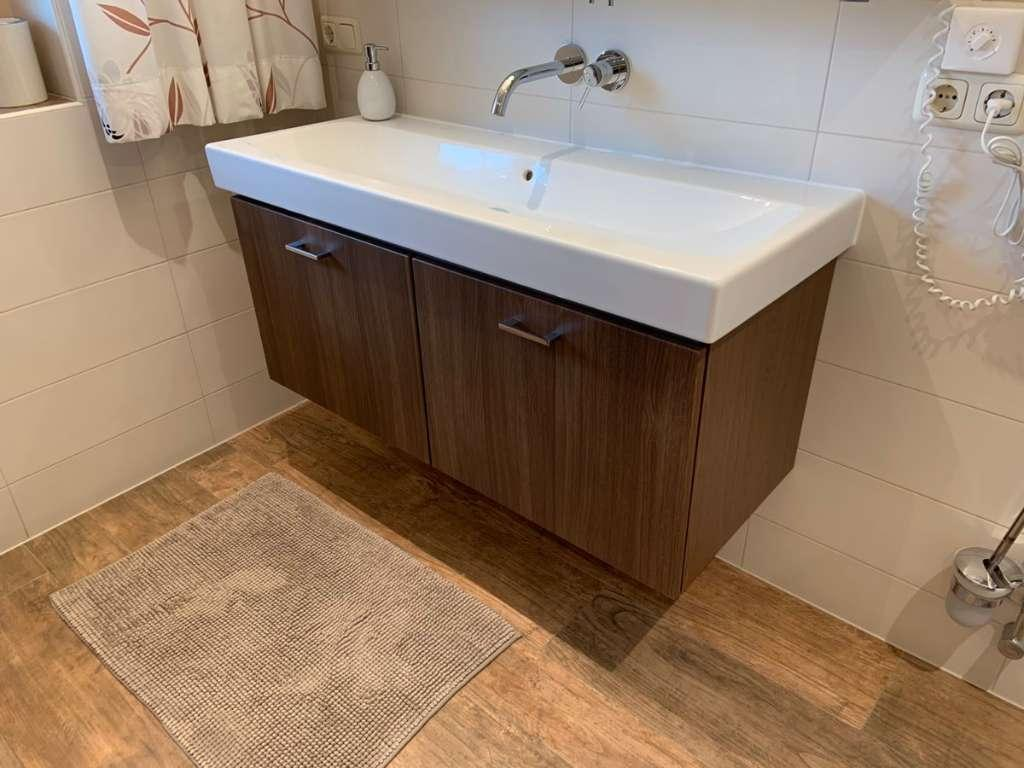cabinet_door: (426, 317, 680, 497), (246, 243, 395, 408)
handle: (496, 316, 568, 355), (281, 235, 335, 268)
